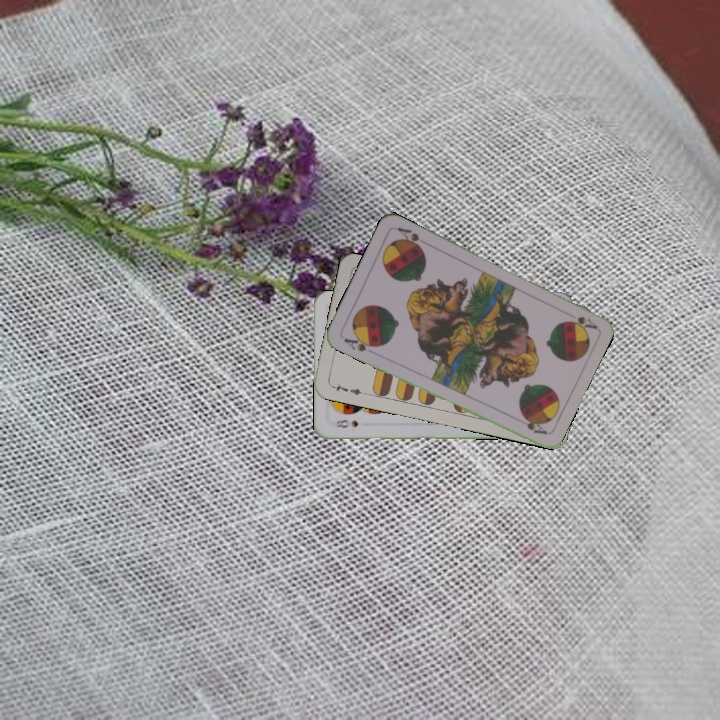E7: (328, 379, 368, 398)
S8: (330, 415, 360, 430)
SA: (340, 332, 380, 354), (566, 312, 599, 332)
